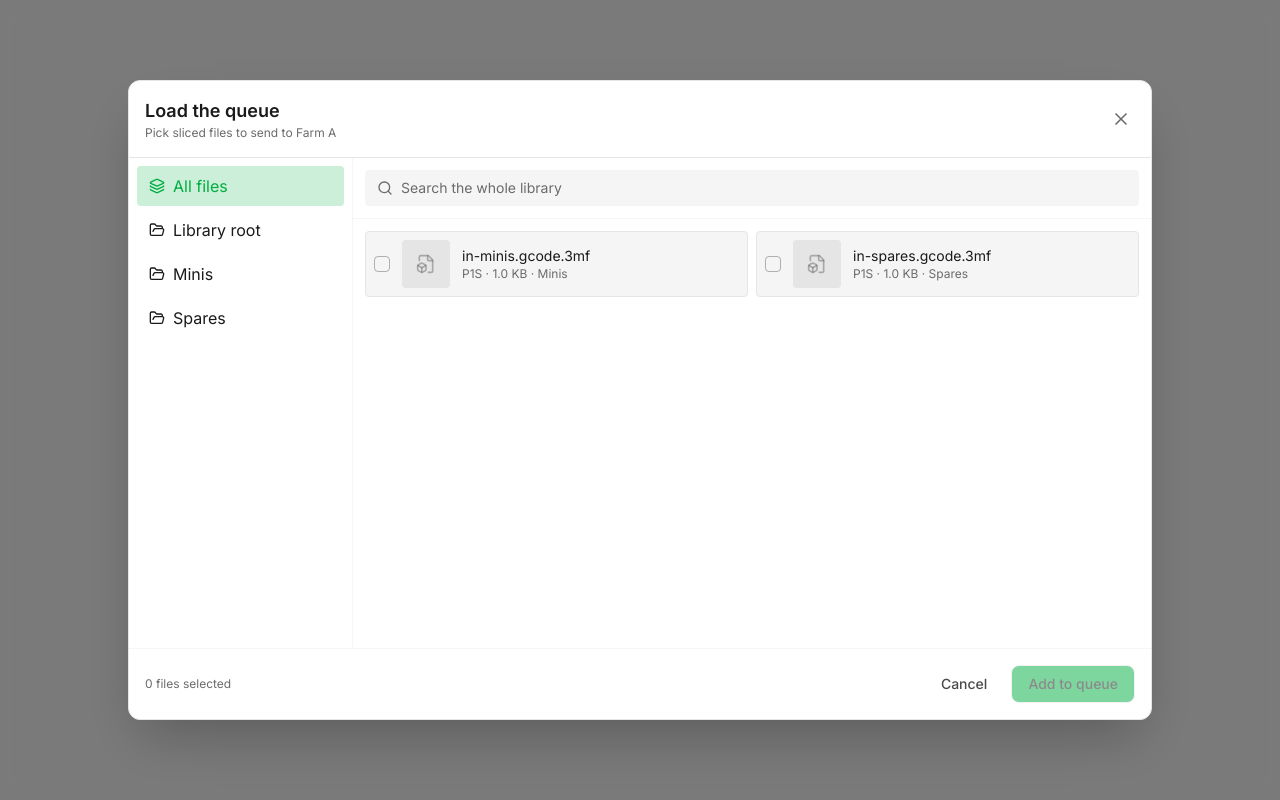
the dialog › searches the whole library, not the folder that happens to be open
Step 1. Click the button "Minis" → (240, 274), box [137,254,344,294]
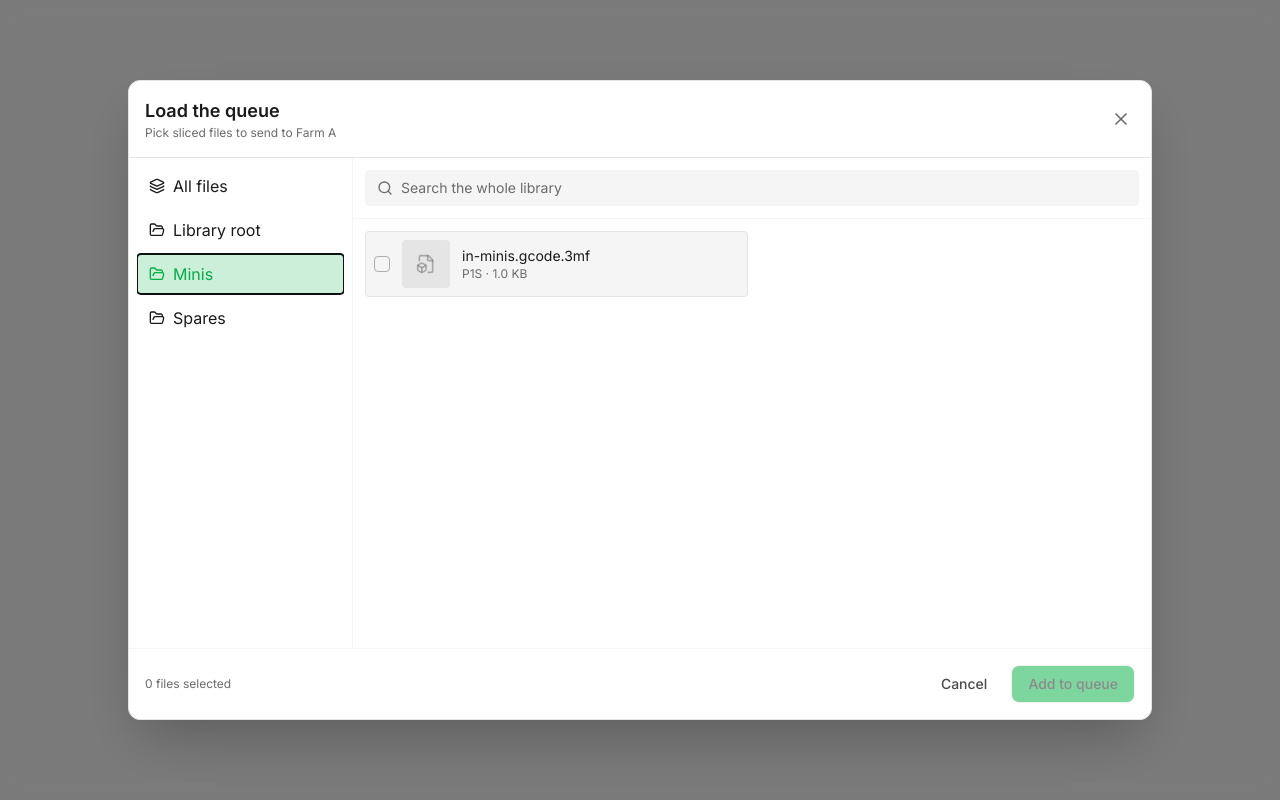
Step 2. Type "spares" into the field with placeholder "Search the whole library" → (752, 188), box [365,170,1139,206]
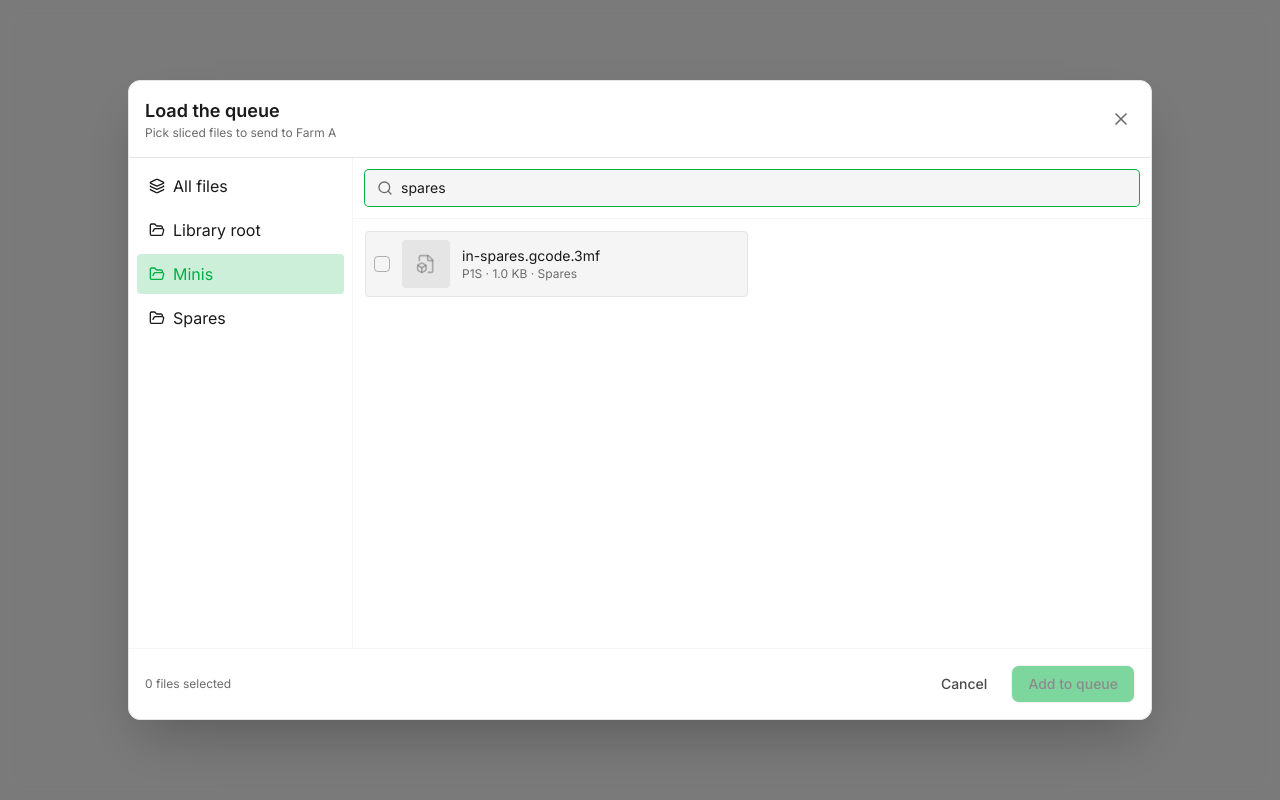
Expected: the text "in-spares.gcode.3mf" is shown, [462,247,600,264]
